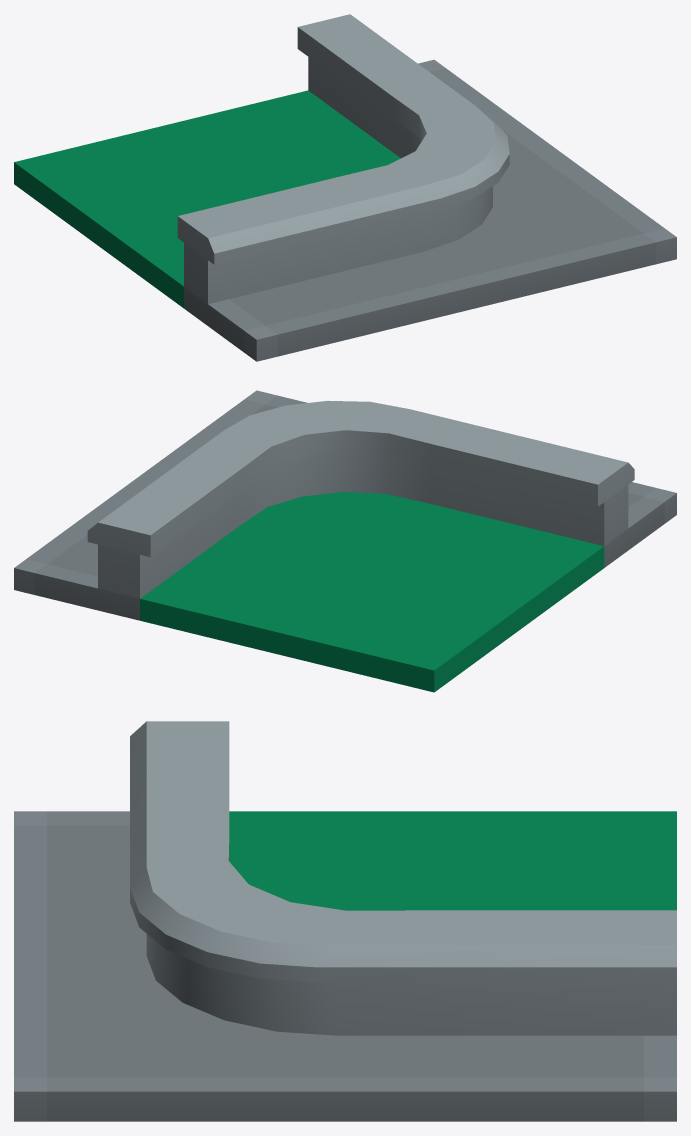
File: park_wall_outerCorner.glb
3 views of the same model, one above another, from view 1: azimuth 30°, elevation 25°; view 2: azimuth 150°, elevation 25°; view 3: azimuth 270°, elevation 25° (orthographic). The views are drawn at different scales.
Visible parts, largest first — view 1: park_wall_outerCorner; view 2: park_wall_outerCorner; view 3: park_wall_outerCorner.
Boxes of the visible parts, bbox=[...] form: park_wall_outerCorner: bbox=[14, 14, 676, 361]; park_wall_outerCorner: bbox=[14, 390, 676, 692]; park_wall_outerCorner: bbox=[14, 721, 676, 1121].
Bounding box in the file's own units: 2 × 0.4 × 2.
Materials: 1 (1 with a texture image).
